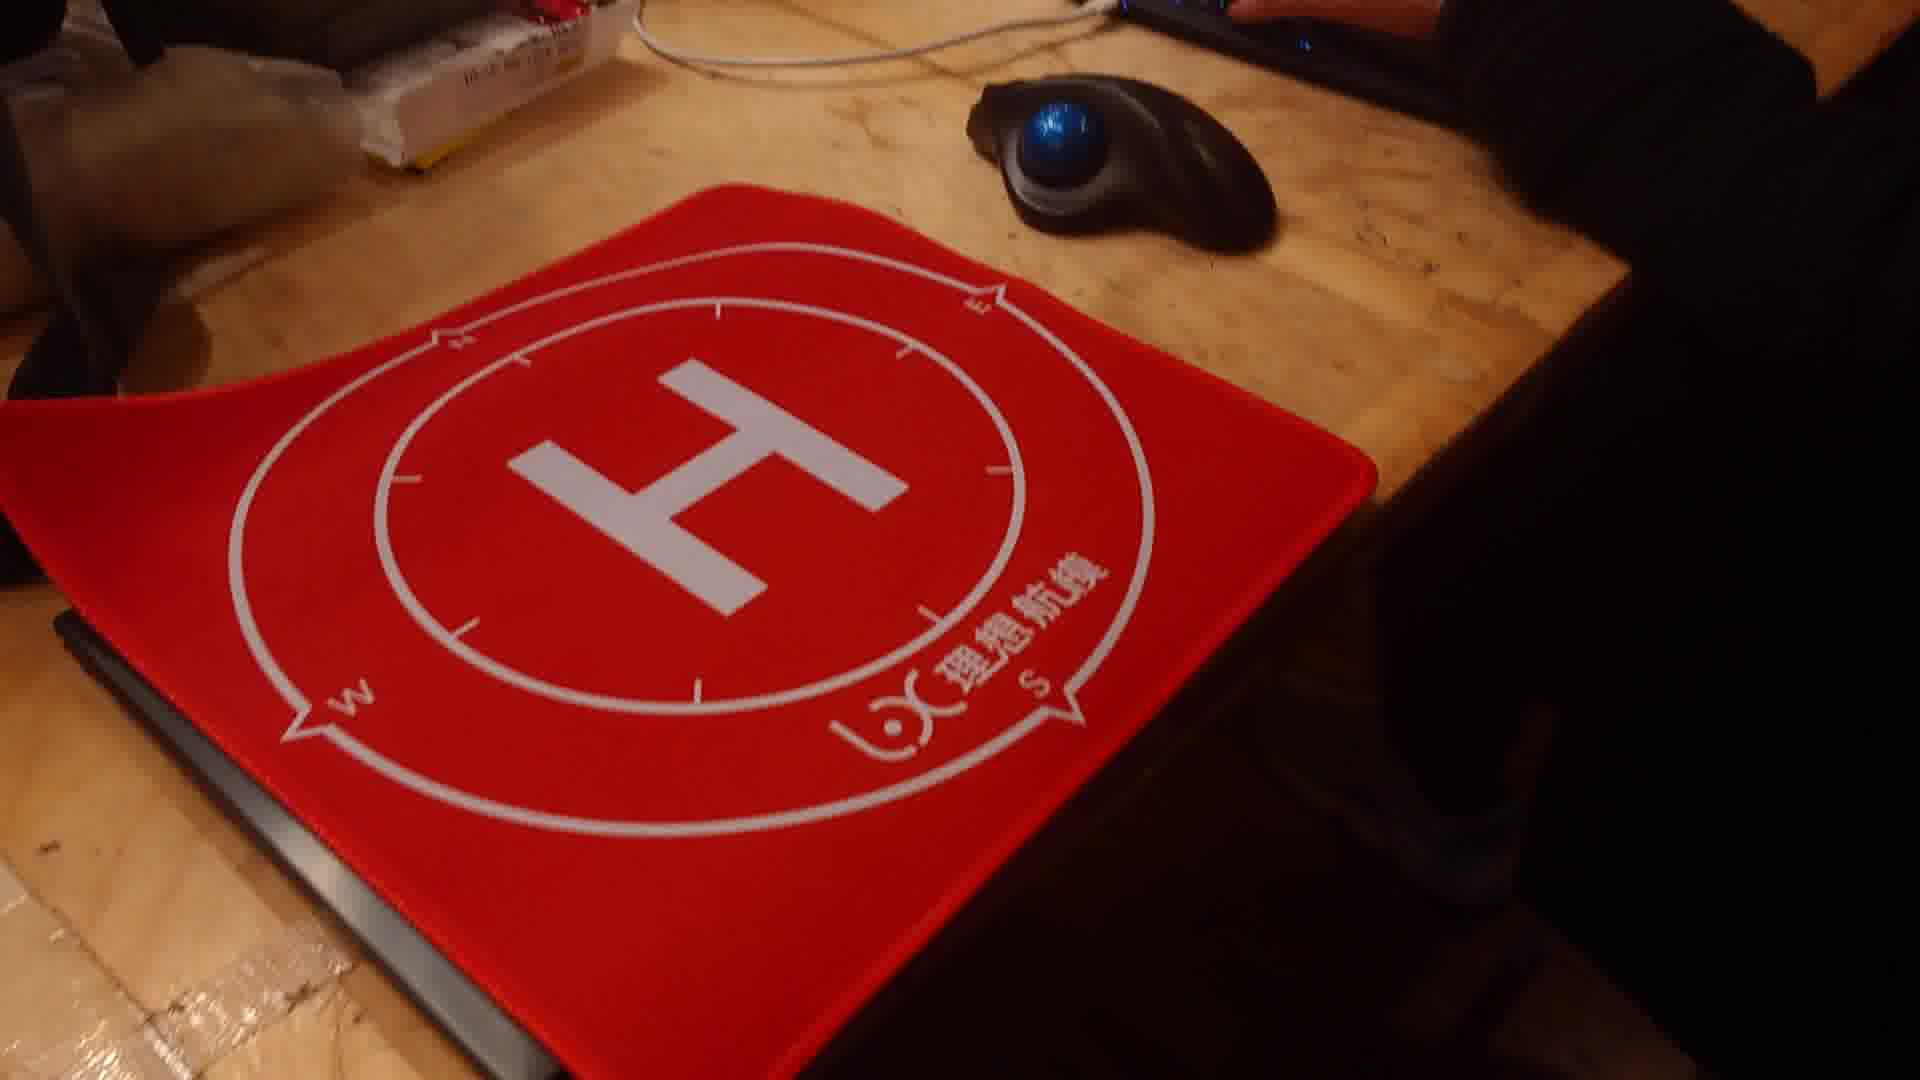H: (506, 355, 914, 618)
